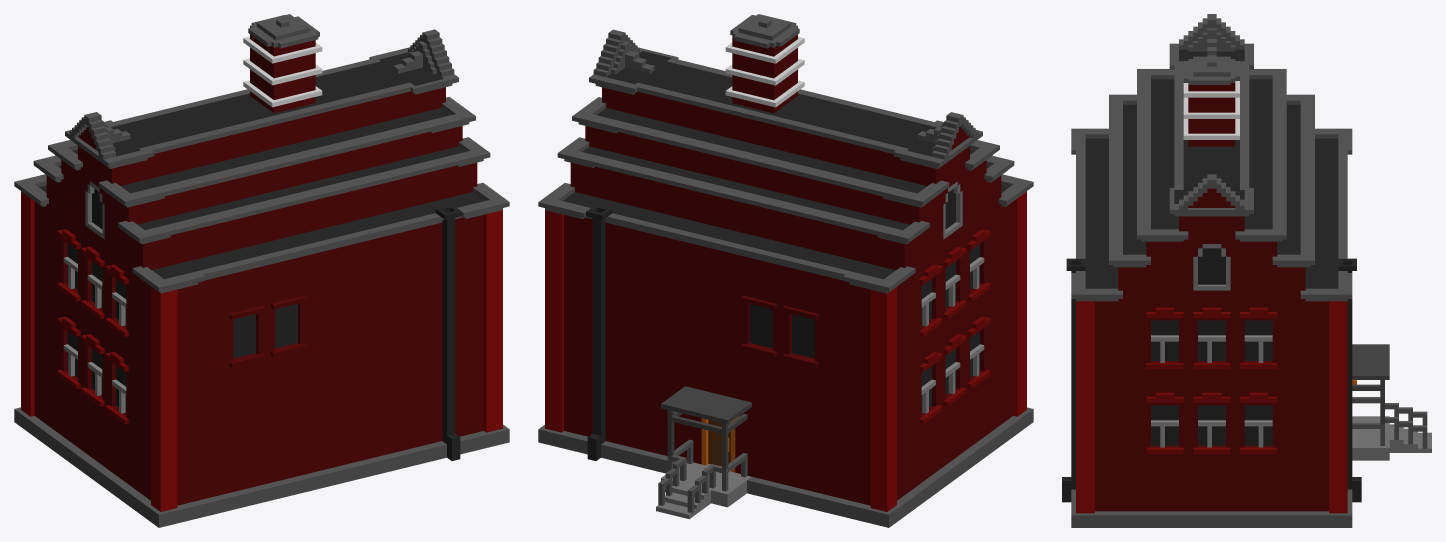
File: VoxelHouse_01.obj
The picture shows the model from 3 angles, left to right: view 1: azimuth 30°, elevation 25°; view 2: azimuth 150°, elevation 25°; view 3: azimuth 270°, elevation 25°; orthographic projection. The views are drawn at different scales.
Bounding box in the file's own units: 16.8 × 18.6 × 15.8.
